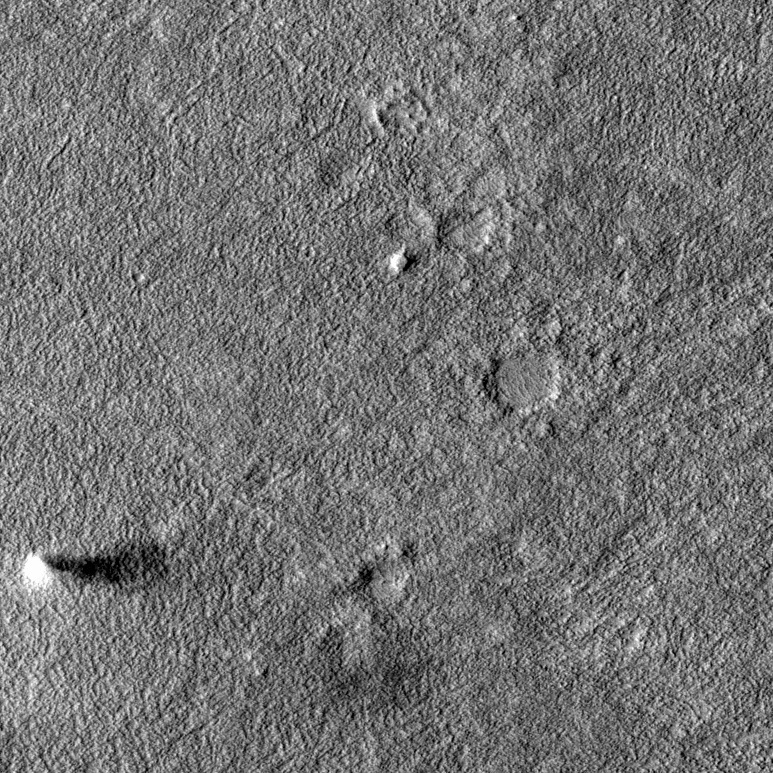dust_devil: (21, 534, 173, 593)
